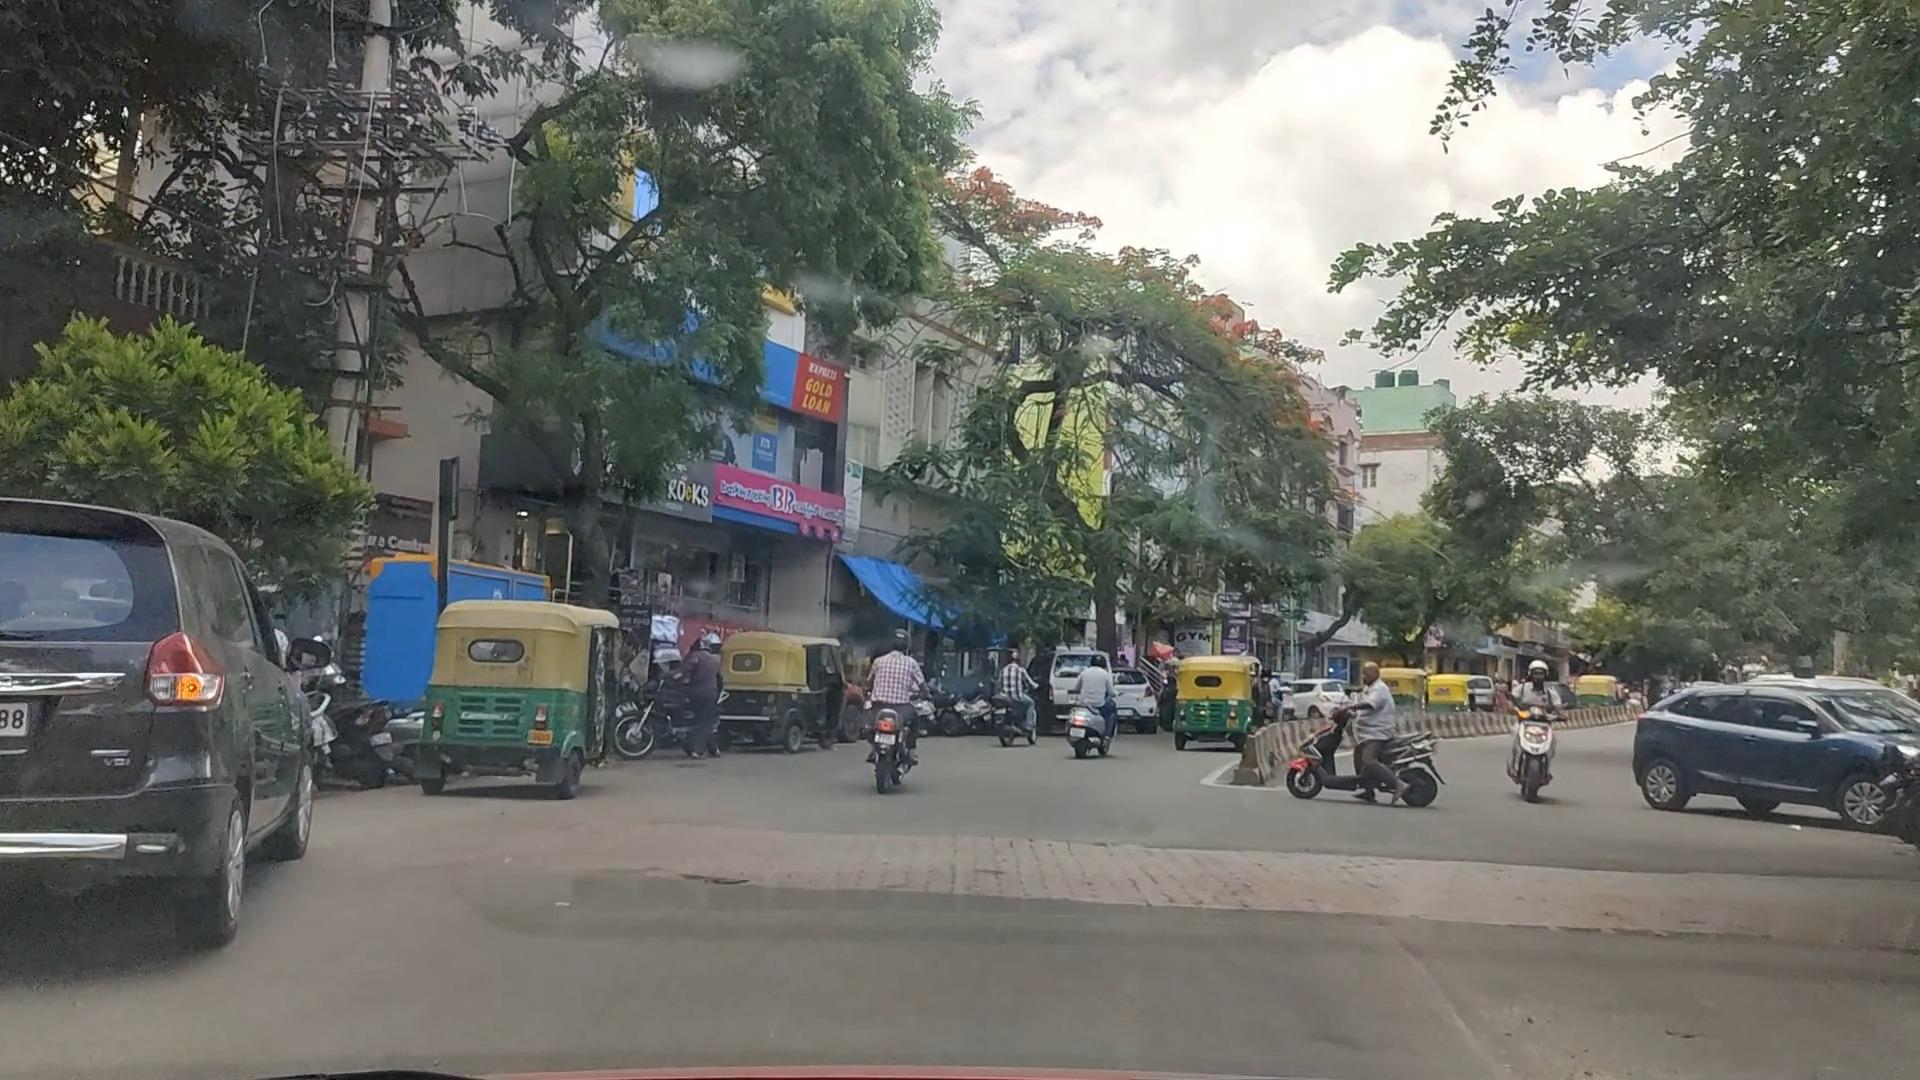LMV: (0, 496, 331, 932), (413, 597, 613, 782), (851, 644, 930, 789)
RoadDamages: (1415, 934, 1701, 1080)
SpeedBump: (396, 831, 1241, 976)
